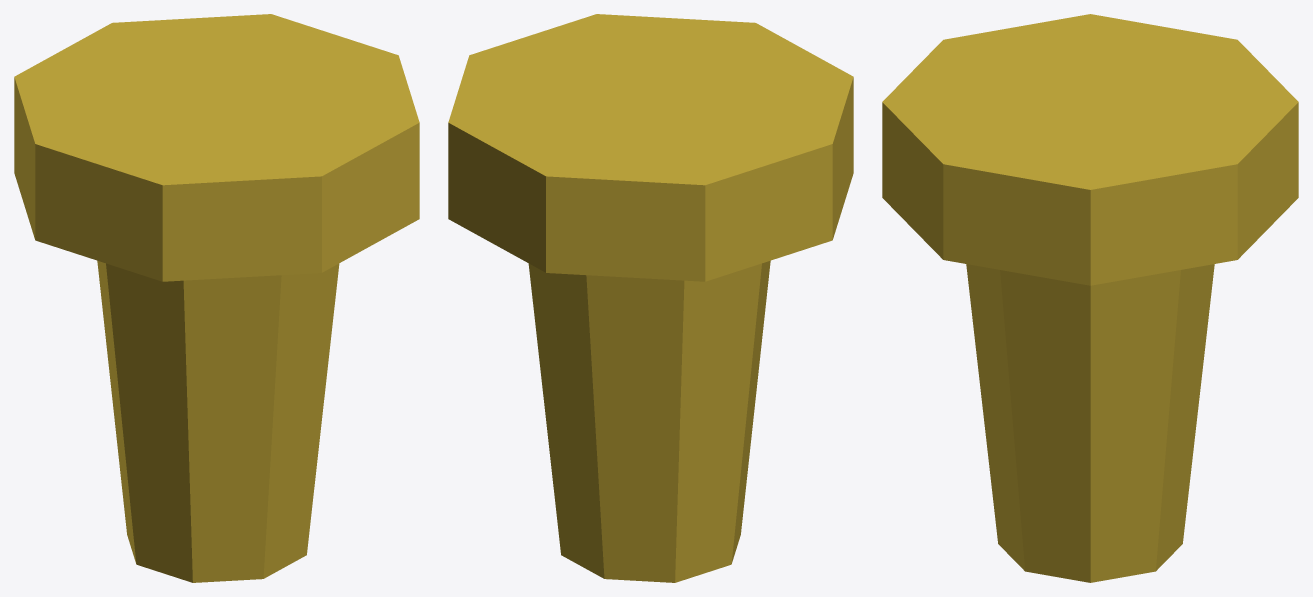
The model's file is golden screw.fbx.
3 renders of one model, left to right at view 1: azimuth 30°, elevation 25°; view 2: azimuth 150°, elevation 25°; view 3: azimuth 270°, elevation 25°, orthographic.
Parts seen in each view (by area): view 1: Golden_Screw; view 2: Golden_Screw; view 3: Golden_Screw.
Part boxes in pixels (x1,y1,x2,y2): Golden_Screw: [14, 14, 419, 582]; Golden_Screw: [448, 14, 853, 582]; Golden_Screw: [882, 14, 1298, 582].
Size of the model in its own units: 99.76 by 117 by 99.76.
